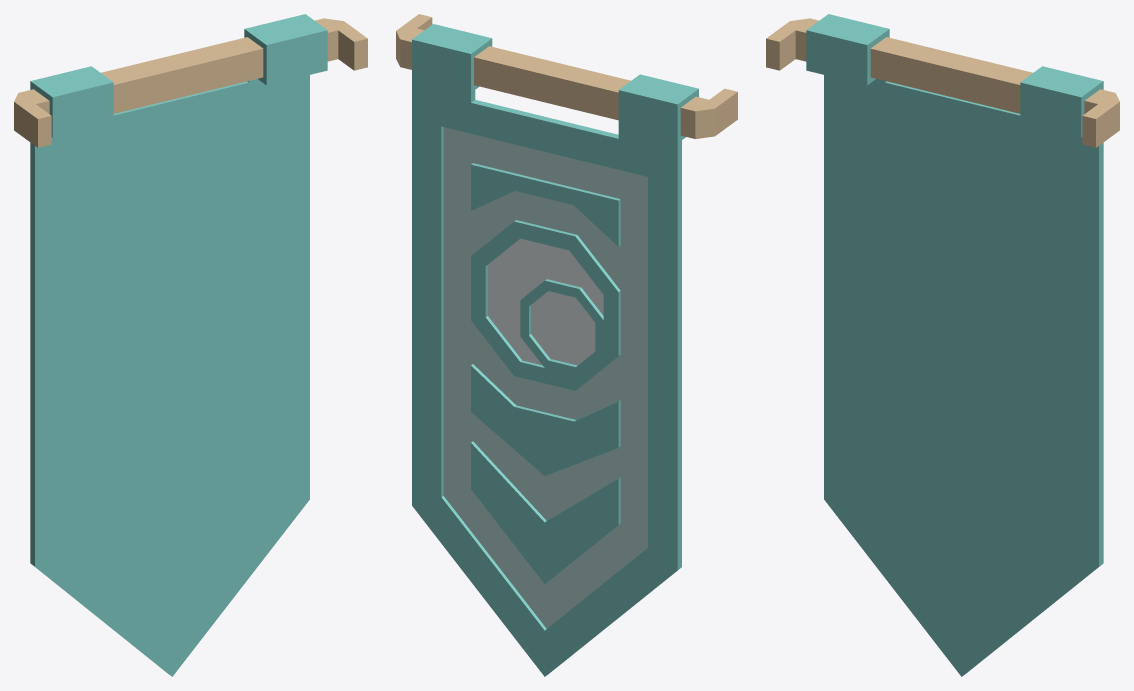
File: opengameart-modular-temple-3d-models-2_37.glb
3 views of the same model, side by side, from view 1: azimuth 30°, elevation 25°; view 2: azimuth 150°, elevation 25°; view 3: azimuth 330°, elevation 25° (orthographic). The views are drawn at different scales.
Visible parts, largest first — view 1: object2, object1; view 2: object2, object1; view 3: object2, object1.
Boxes of the visible parts, x1,y1,x2,y2 form: object2: (30,14,327,676); object1: (14,18,367,147); object2: (412,24,698,676); object1: (396,14,737,138); object2: (806,14,1103,676); object1: (766,18,1119,147).
Bounding box in the file's own units: 0.54 × 0.979 × 0.099.
